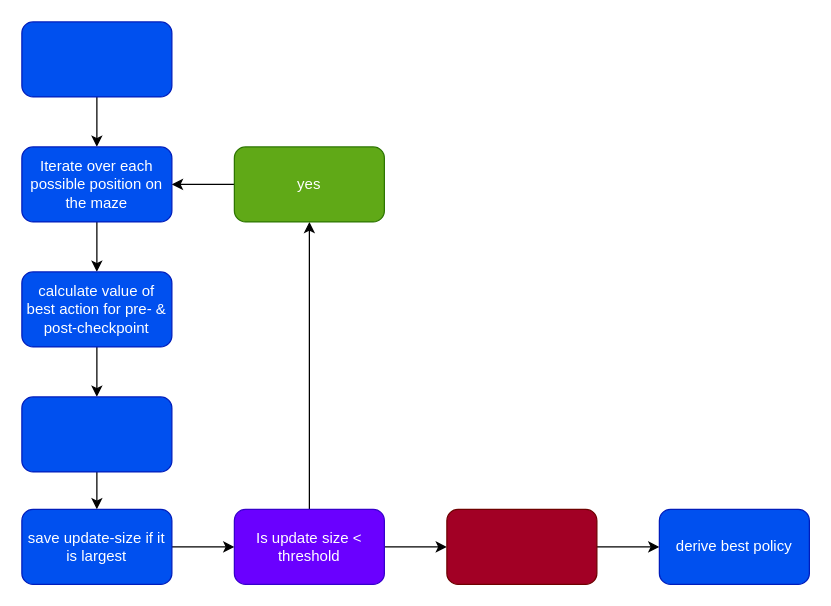
Image size: 831x606. Some labels were removed from this diagram. Each missing label, with the centre of its shape:
Create tables for state-value function: (96,59)
no: (521,546)
update value-function for those states: (96,434)
